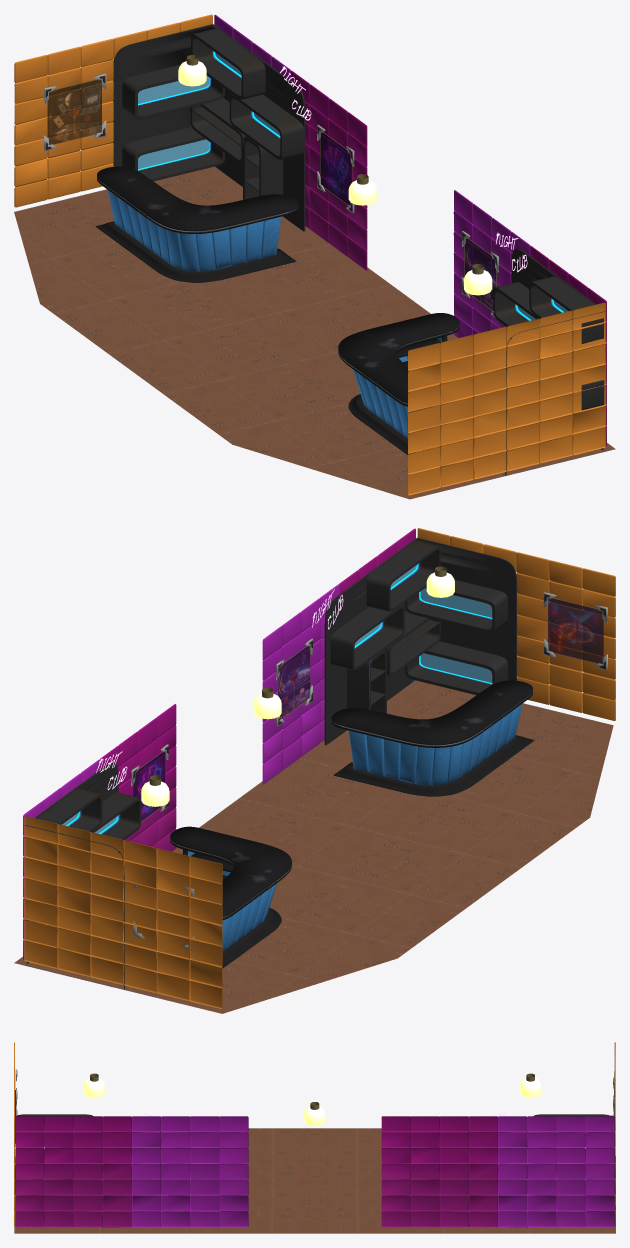
File: Nexus_bar_static.fbx
3 renders of one model, top to bottom at view 1: azimuth 30°, elevation 25°; view 2: azimuth 150°, elevation 25°; view 3: azimuth 270°, elevation 25°, orthographic. The views are drawn at different scales.
Parts seen in each view (by area): view 1: Plane.020, Plane.154, Plane.361, Plane.365, Plane.360, Plane.405, Plane.158, Plane.153, Plane.396, Plane.400, Plane.397, Plane.399 (+11 smaller); view 2: Plane.020, Plane.361, Plane.154, Plane.158, Plane.153, Plane.198, Plane.365, Plane.360, Plane.189, Plane.193, Plane.190, Plane.192 (+11 smaller); view 3: Plane.153, Plane.360, Plane.020, BarLamp.001, BarLamp, BarLamp.002, Plane.361.
Part boxes in pixels (<box>): Plane.020: <box>14,166,615,499</box>; Plane.154: <box>408,302,606,495</box>; Plane.361: <box>14,14,212,207</box>; Plane.365: <box>96,166,298,282</box>; Plane.360: <box>214,14,367,270</box>; Plane.405: <box>113,24,305,231</box>; Plane.158: <box>338,313,459,454</box>; Plane.153: <box>453,190,606,445</box>; Plane.396: <box>122,127,224,181</box>; Plane.400: <box>122,64,224,118</box>; Plane.397: <box>191,28,265,99</box>; Plane.399: <box>229,94,304,159</box>; Plane.020: <box>14,680,613,1013</box>; Plane.361: <box>24,816,222,1008</box>; Plane.154: <box>417,528,615,720</box>; Plane.158: <box>331,680,533,796</box>; Plane.153: <box>262,528,415,784</box>; Plane.198: <box>324,537,516,745</box>; Plane.365: <box>170,826,291,968</box>; Plane.360: <box>23,704,176,959</box>; Plane.189: <box>405,641,507,695</box>; Plane.193: <box>405,580,507,632</box>; Plane.190: <box>366,541,440,611</box>; Plane.192: <box>330,604,404,670</box>; Plane.153: <box>15,1116,248,1227</box>; Plane.360: <box>381,1116,614,1227</box>; Plane.020: <box>14,1128,615,1233</box>; BarLamp.001: <box>83,1073,105,1097</box>; BarLamp: <box>520,1073,541,1097</box>; BarLamp.002: <box>304,1102,325,1125</box>; Plane.361: <box>614,1042,615,1226</box>.
Size of the model in its own units: 566 by 317 by 1363.
Materials: 7 (4 with a texture image).
